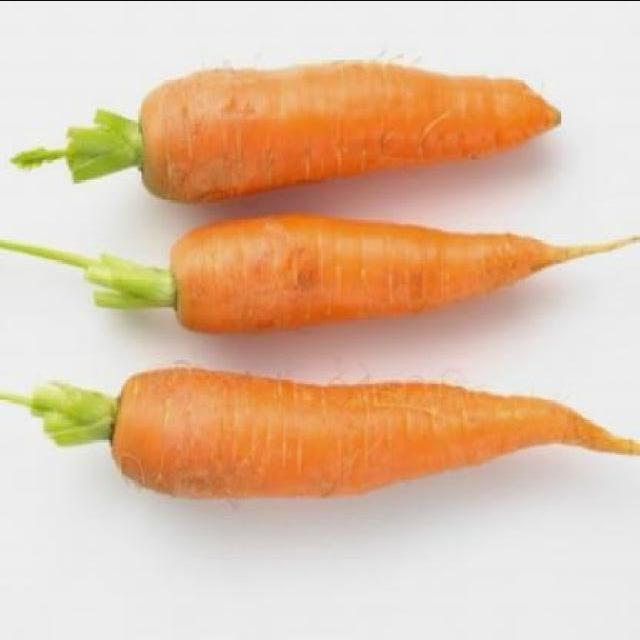carrot: (88, 342, 637, 531), (127, 44, 581, 201), (150, 201, 618, 333)
